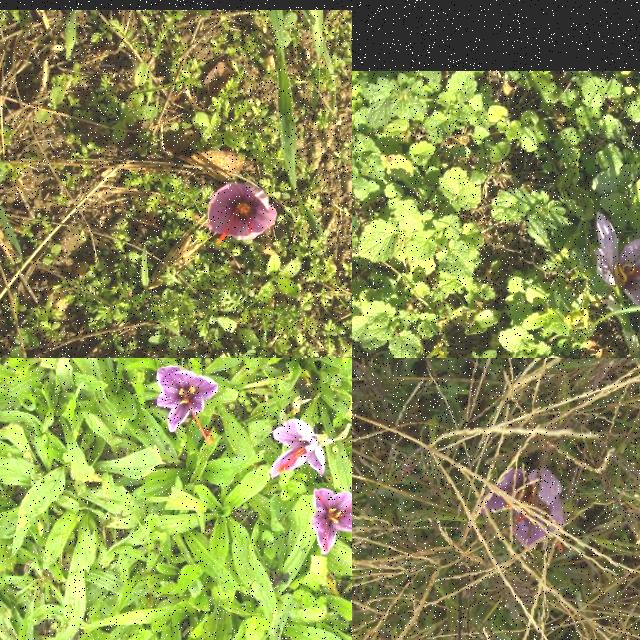flower: (481, 468, 564, 548), (158, 366, 218, 444), (596, 211, 640, 312), (208, 184, 278, 246), (268, 419, 326, 477), (314, 486, 352, 555)
